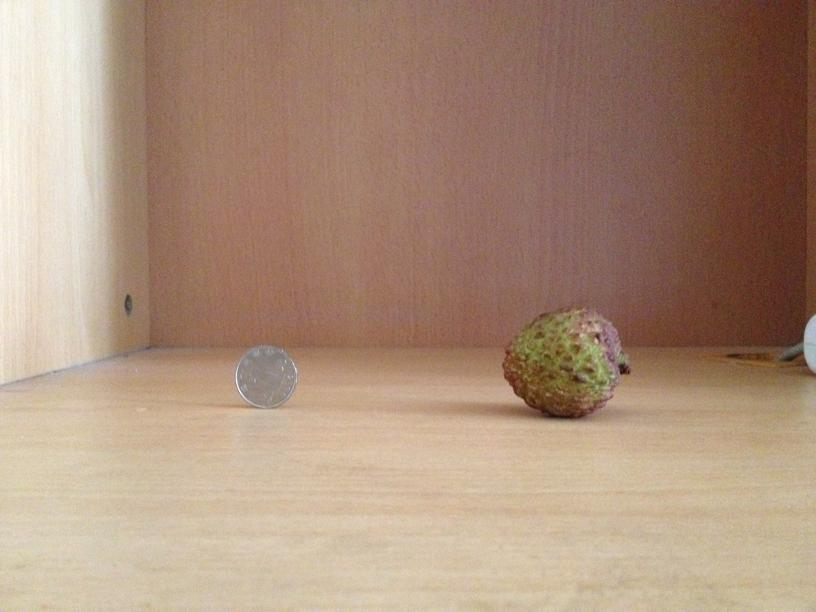coin: (235, 343, 300, 409)
litchi: (501, 306, 625, 421)
